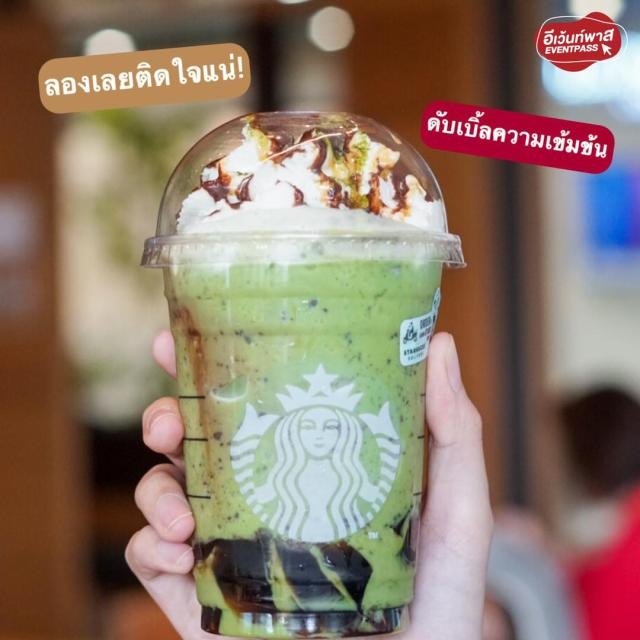cup: (140, 111, 469, 640)
